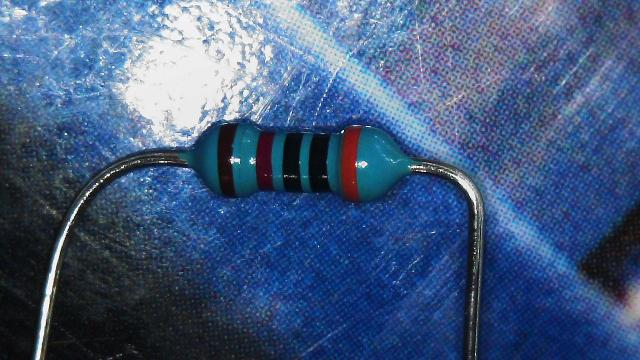black: (309, 134, 330, 192), (283, 133, 302, 192)
brown: (341, 126, 361, 200), (218, 122, 237, 196)
red: (256, 131, 274, 190)
resistor: (187, 108, 428, 210)
